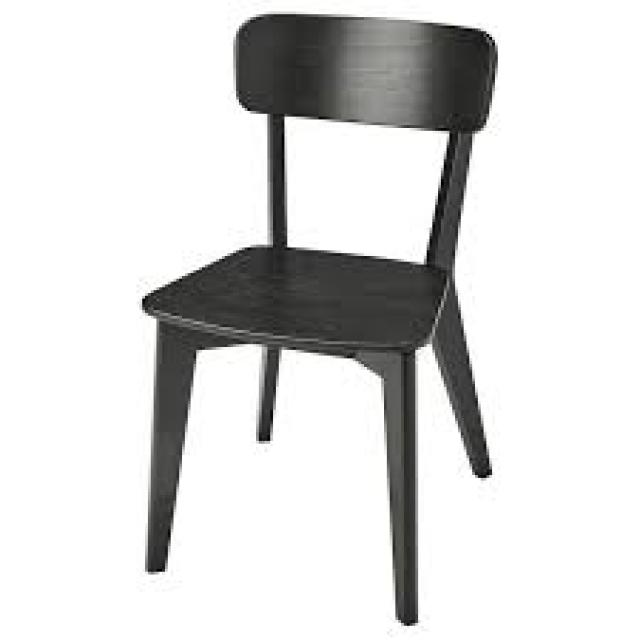chair: (81, 1, 616, 640)
